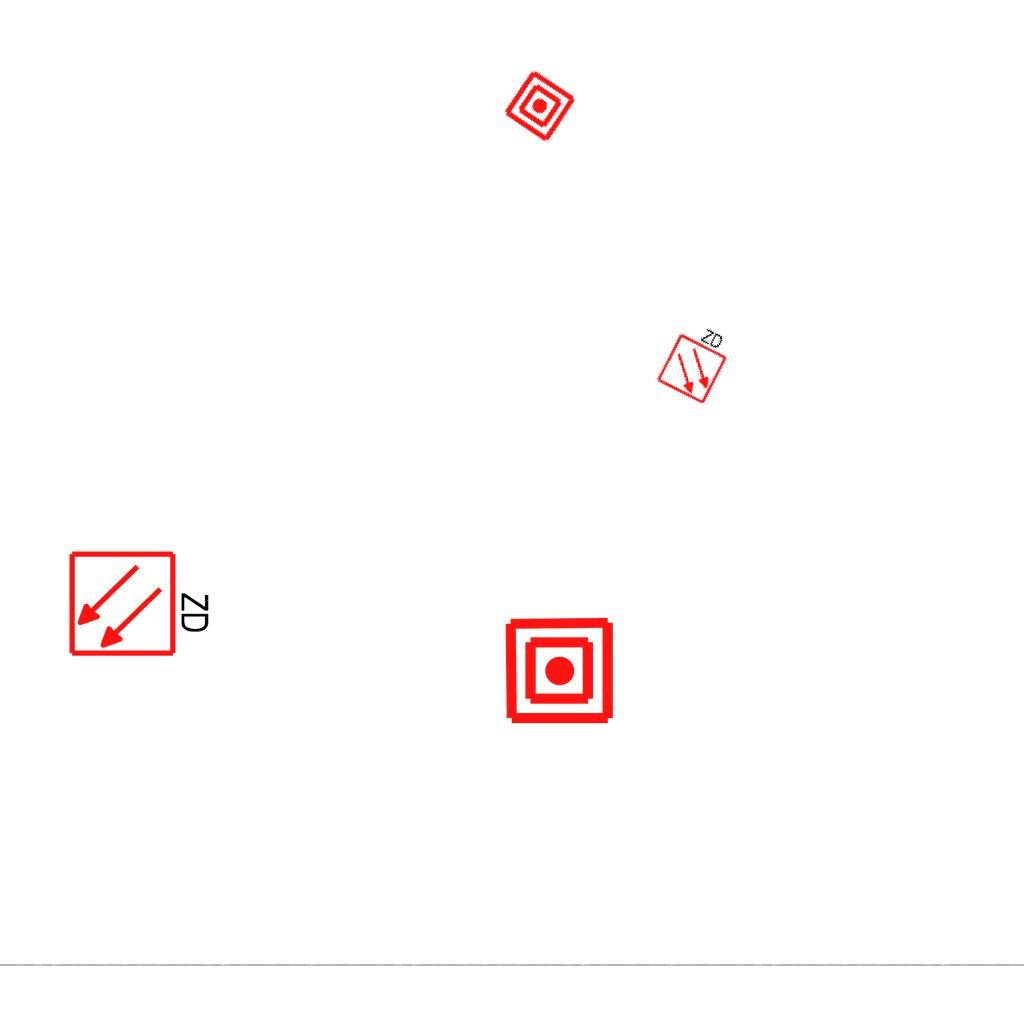NAM-Nichtautomatischer_Melder: (503, 614, 616, 727), (501, 67, 579, 145)
ZD_Melder_in_Zwischendecke_mit_Revisionsoeffnung_mind_40_x_40_cm: (67, 545, 216, 659), (653, 314, 738, 406)
